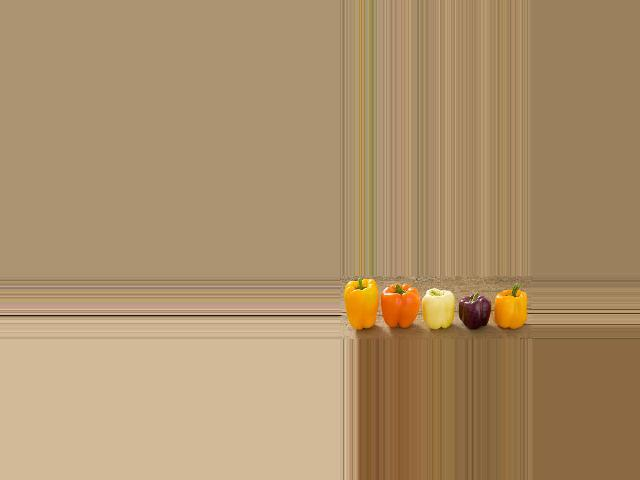bell_pepper: (497, 281, 530, 337)
